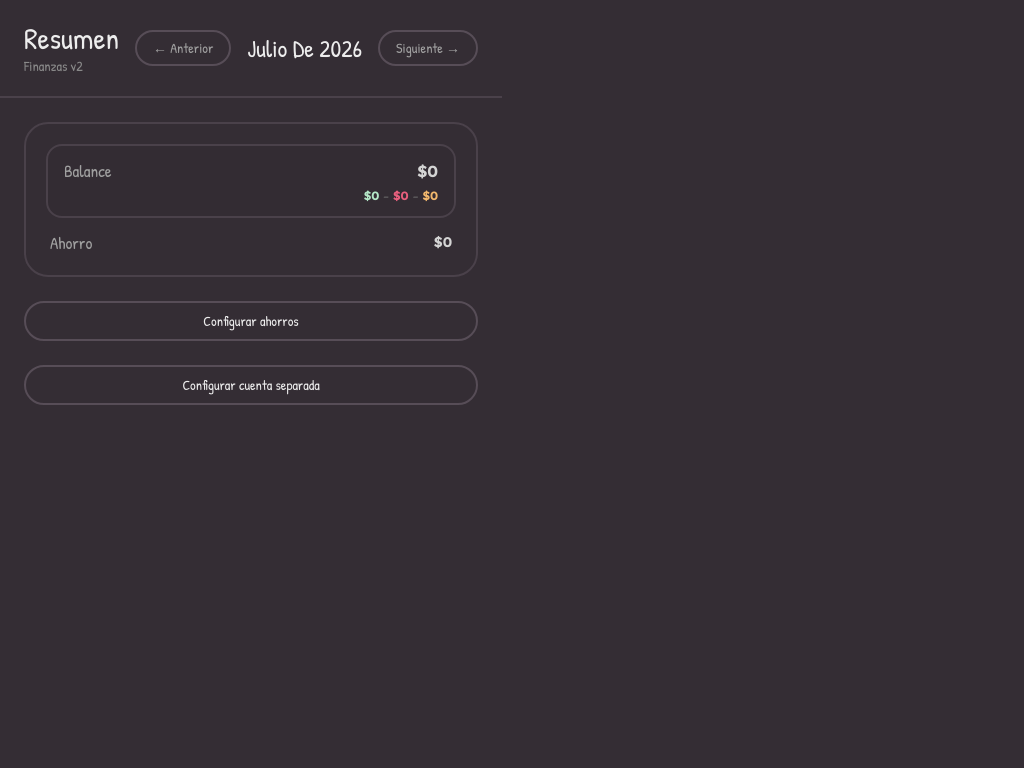
FinanceV2Screen › envelope wiring › opening the envelope config modal disables the shared MonthNav
Click the button "Configurar cuenta separada". click: (251,385)
box: [24,365,478,405]
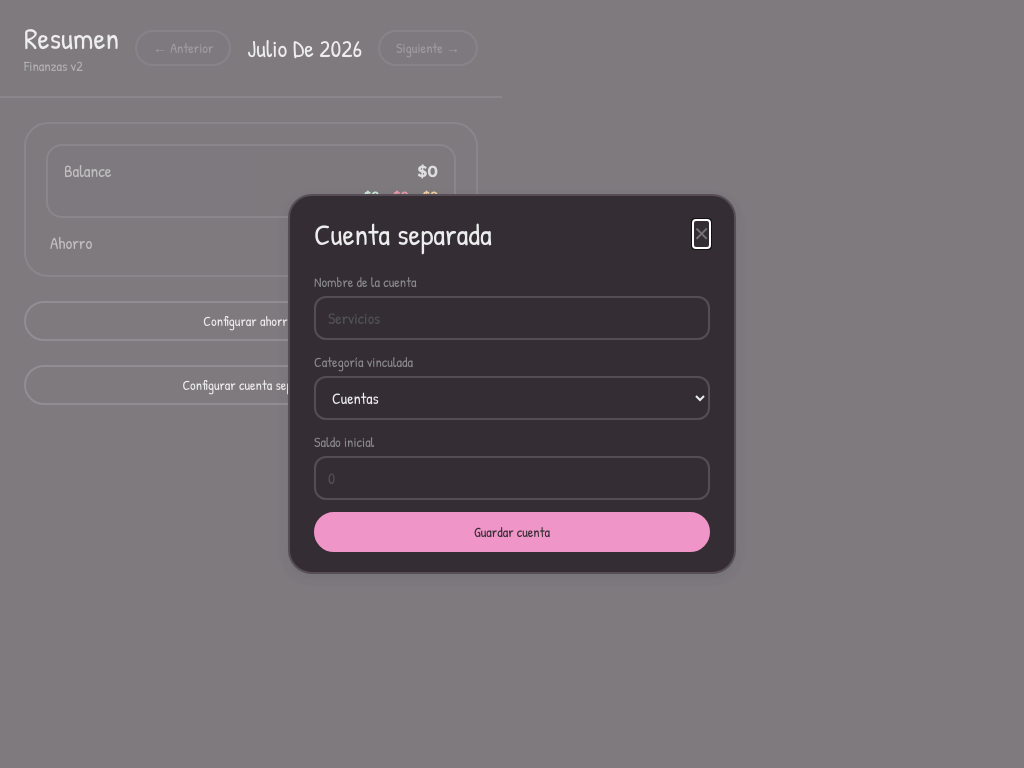
Check: the button "Siguiente →" is disabled, box [378,30,478,66]
